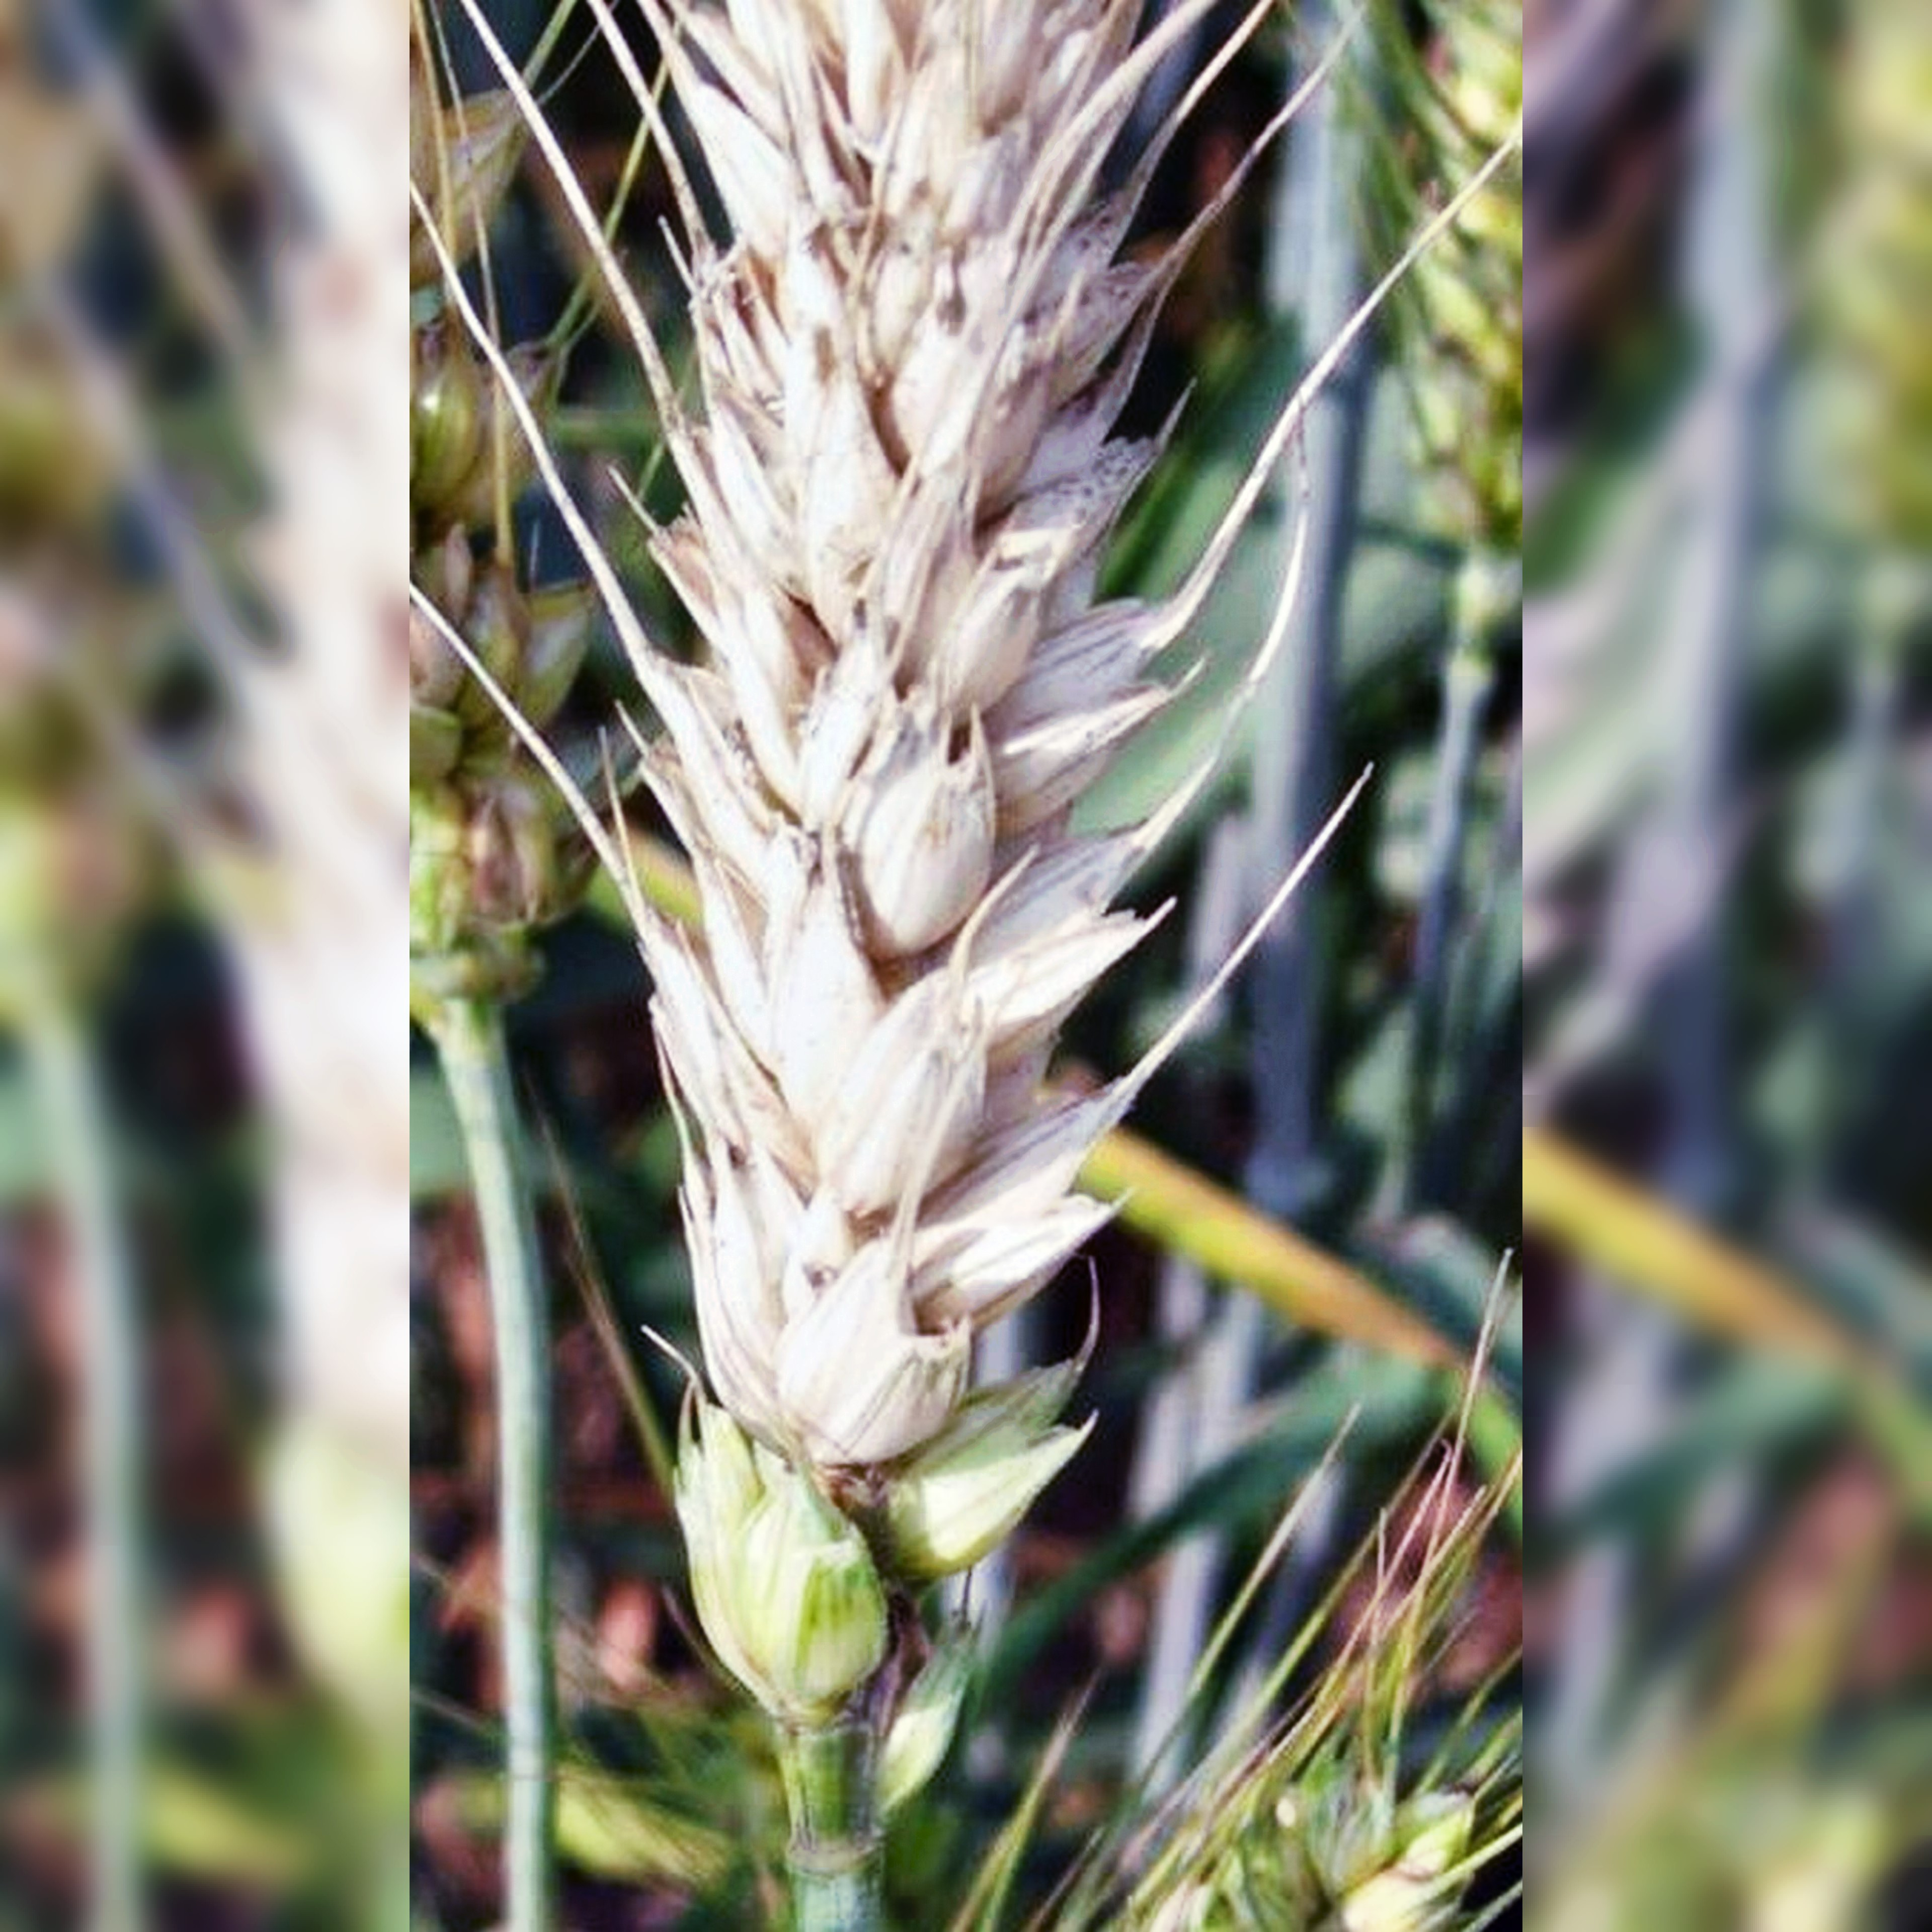Wheat scab: (552, 25, 1196, 1877)
